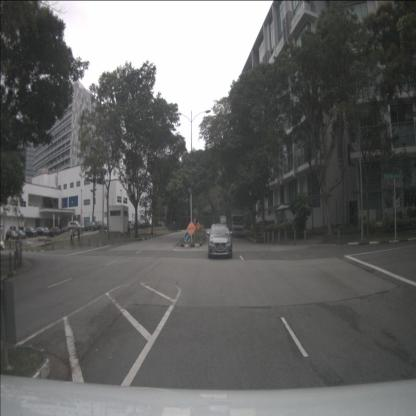human-pedestrian-adult: (70, 226, 74, 247), (127, 220, 131, 238), (77, 227, 81, 244), (73, 228, 76, 246)
vehicle-car: (208, 224, 232, 259), (67, 221, 84, 232), (47, 226, 61, 238), (24, 226, 37, 238), (122, 220, 134, 231), (6, 230, 19, 240), (132, 220, 144, 230), (92, 221, 104, 231), (14, 229, 26, 239), (35, 227, 47, 236), (59, 226, 69, 236)
vehicle-truck: (229, 208, 245, 238), (84, 221, 98, 232), (219, 215, 228, 230)
